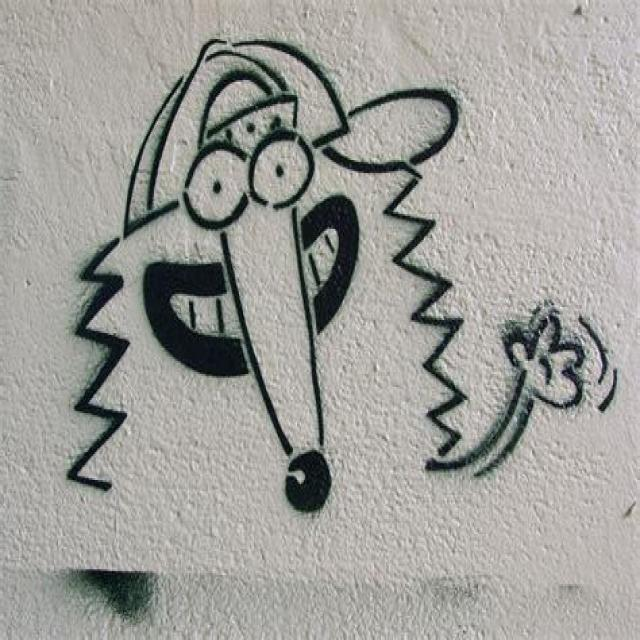nonspitting: (68, 32, 620, 516)
